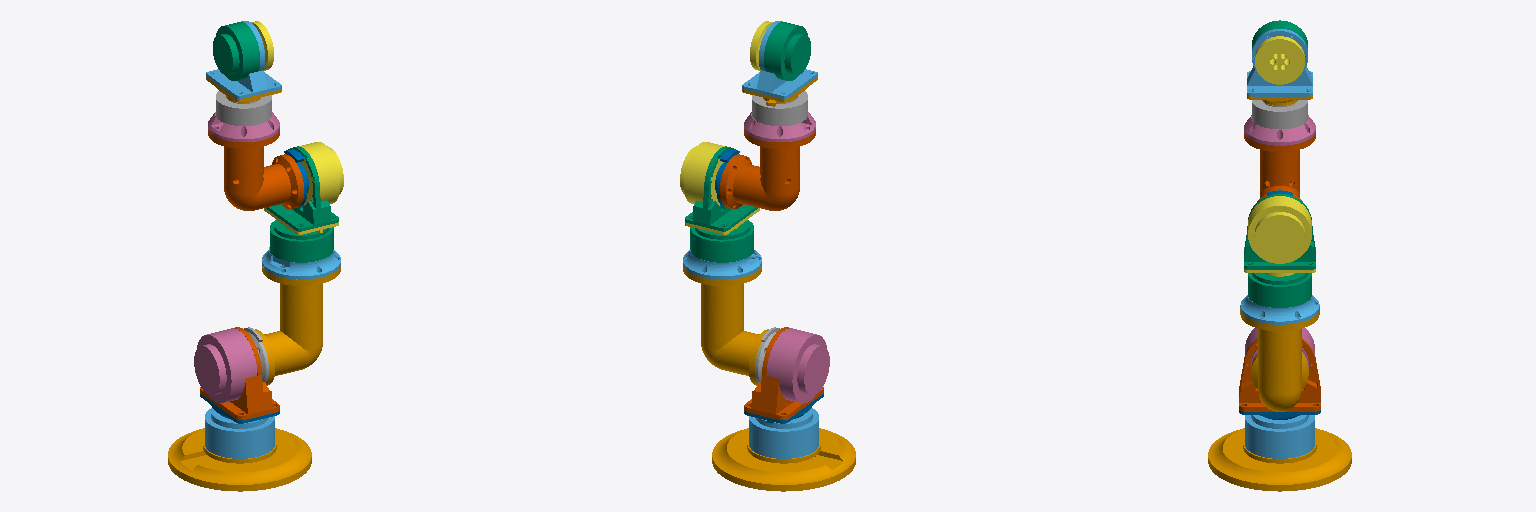
robot.urdf — my_robot:
<robot name="my_robot" version="1.0">
  <joint name="link1_motor_joint" type="fixed">
    <origin rpy="0.00000 0.00000 0.00000" xyz="0.00000 -0.00000 0.02630"/>
    <parent link="base_link"/>
    <child link="link1_motor"/>
    <axis xyz="0.00000 0.00000 1.00000"/>
  </joint>
  <joint name="link1_1_joint" type="revolute">
    <limit lower="-3.14000" upper="3.14000" effort="0.00000" velocity="0.00000"/>
    <origin rpy="0.00000 0.00000 0.00000" xyz="0.00000 0.00000 0.05070"/>
    <parent link="link1_motor"/>
    <child link="link1_1"/>
    <axis xyz="0.00000 0.00000 1.00000"/>
  </joint>
  <joint name="link4_motor_joint" type="fixed">
    <origin rpy="0.00000 0.00000 0.00000" xyz="0.00400 0.00000 0.05460"/>
    <parent link="link3_2"/>
    <child link="link4_motor"/>
  </joint>
  <joint name="link4_1_joint" type="revolute">
    <limit lower="-3.14000" upper="3.14000" effort="0.00000" velocity="0.00000"/>
    <origin rpy="0.00000 0.00000 0.00000" xyz="-0.00650 0.00000 0.00000"/>
    <parent link="link4_motor"/>
    <child link="link4_1"/>
    <axis xyz="-1.00000 0.00000 0.00000"/>
  </joint>
  <joint name="link4_1.000_joint" type="fixed">
    <origin rpy="0.00000 0.00000 0.00000" xyz="-0.01500 0.00000 0.00000"/>
    <parent link="link4_1"/>
    <child link="link4_2"/>
  </joint>
  <joint name="link4_3_joint" type="fixed">
    <origin rpy="0.00000 0.00000 0.00000" xyz="-0.07500 0.00000 0.10000"/>
    <parent link="link4_2"/>
    <child link="link4_3"/>
  </joint>
  <joint name="link5_motor_joint" type="fixed">
    <origin rpy="0.00000 0.00000 0.00000" xyz="0.00000 0.00000 0.02000"/>
    <parent link="link4_3"/>
    <child link="link5_motor"/>
  </joint>
  <joint name="link5_1_joint" type="revolute">
    <limit lower="-3.14000" upper="3.14000" effort="0.00000" velocity="0.00000"/>
    <origin rpy="0.00000 0.00000 0.00000" xyz="0.00000 0.00000 0.02900"/>
    <parent link="link5_motor"/>
    <child link="link5_1"/>
    <axis xyz="0.00000 0.00000 1.00000"/>
  </joint>
  <joint name="link5_2_joint" type="fixed">
    <origin rpy="0.00000 0.00000 0.00000" xyz="0.00000 0.00000 0.02000"/>
    <parent link="link5_1"/>
    <child link="link5_2"/>
  </joint>
  <joint name="link6_motor_joint" type="fixed">
    <origin rpy="0.00000 0.00000 0.00000" xyz="0.00350 0.00000 0.04950"/>
    <parent link="link5_2"/>
    <child link="link6_motor"/>
  </joint>
  <joint name="link6_1_joint" type="revolute">
    <limit lower="-3.14000" upper="3.14000" effort="0.00000" velocity="0.00000"/>
    <origin rpy="0.00000 0.00000 0.00000" xyz="0.00200 0.00000 0.00000"/>
    <parent link="link6_motor"/>
    <child link="link6_1"/>
    <axis xyz="1.00000 0.00000 0.00000"/>
  </joint>
  <joint name="link1_2_joint" type="fixed">
    <origin rpy="0.00000 0.00000 0.00000" xyz="0.00000 0.00000 0.01500"/>
    <parent link="link1_1"/>
    <child link="link1_2"/>
  </joint>
  <joint name="link2_motor_joint" type="fixed">
    <origin rpy="0.00000 0.00000 0.00000" xyz="0.00000 0.00000 0.05900"/>
    <parent link="link1_2"/>
    <child link="link2_motor"/>
  </joint>
  <joint name="link2_1_joint" type="revolute">
    <limit lower="-3.14000" upper="3.14000" effort="0.00000" velocity="0.00000"/>
    <origin rpy="0.00000 0.00000 0.00000" xyz="0.00900 0.00000 0.00000"/>
    <parent link="link2_motor"/>
    <child link="link2_1"/>
    <axis xyz="1.00000 0.00000 0.00000"/>
  </joint>
  <joint name="link2_2_joint" type="fixed">
    <origin rpy="0.00000 0.00000 0.00000" xyz="0.01500 0.00000 0.00000"/>
    <parent link="link2_1"/>
    <child link="link2_2"/>
  </joint>
  <joint name="link2_3_joint" type="fixed">
    <origin rpy="0.00000 0.00000 0.00000" xyz="0.07500 0.00000 0.13000"/>
    <parent link="link2_2"/>
    <child link="link2_3"/>
  </joint>
  <joint name="link3_motor_joint" type="fixed">
    <origin rpy="0.00000 0.00000 0.00000" xyz="0.00000 0.00000 0.02100"/>
    <parent link="link2_3"/>
    <child link="link3_motor"/>
  </joint>
  <joint name="link3_1_joint" type="revolute">
    <limit lower="-3.14000" upper="3.14000" effort="0.00000" velocity="0.00000"/>
    <origin rpy="0.00000 0.00000 0.00000" xyz="0.00000 0.00000 0.03905"/>
    <parent link="link3_motor"/>
    <child link="link3_1"/>
    <axis xyz="0.00000 0.00000 1.00000"/>
  </joint>
  <joint name="link3_2_joint" type="fixed">
    <origin rpy="0.00000 0.00000 0.00000" xyz="0.00000 0.00000 0.01500"/>
    <parent link="link3_1"/>
    <child link="link3_2"/>
  </joint>
  <link name="base_link">
    <collision name="mesh_base_link_collision">
      <origin rpy="0.00000 0.00000 0.00000" xyz="0.00000 0.00000 0.00000"/>
      <geometry>
        <mesh filename="../meshes/stl/1_my_robot v2_base_link_1_Body1.stl" scale="0.00100 0.00100 0.00100"/>
      </geometry>
    </collision>
    <visual name="mesh_base_link">
      <material name="None"/>
      <origin rpy="0.00000 0.00000 0.00000" xyz="0.00000 0.00000 0.00000"/>
      <geometry>
        <mesh filename="../meshes/stl/1_my_robot v2_base_link_1_Body1.stl" scale="0.00100 0.00100 0.00100"/>
      </geometry>
    </visual>
  </link>
  <link name="link1_motor">
    <collision name="mesh_link1_motor_collision">
      <origin rpy="0.00000 0.00000 0.00000" xyz="0.00000 0.00000 -0.02630"/>
      <geometry>
        <mesh filename="../meshes/stl/1_my_robot v2_link1_motor_1_Body1.stl" scale="0.00100 0.00100 0.00100"/>
      </geometry>
    </collision>
    <visual name="mesh_link1_motor">
      <material name="None"/>
      <origin rpy="0.00000 0.00000 0.00000" xyz="0.00000 0.00000 -0.02630"/>
      <geometry>
        <mesh filename="../meshes/stl/1_my_robot v2_link1_motor_1_Body1.stl" scale="0.00100 0.00100 0.00100"/>
      </geometry>
    </visual>
  </link>
  <link name="link3_2">
    <collision name="mesh_link3_2_collision">
      <origin rpy="0.00000 0.00000 0.00000" xyz="-0.09900 0.00000 -0.35605"/>
      <geometry>
        <mesh filename="../meshes/stl/1_my_robot v2_link3_2_1_Body1.stl" scale="0.00100 0.00100 0.00100"/>
      </geometry>
    </collision>
    <visual name="mesh_link3_2">
      <material name="None"/>
      <origin rpy="0.00000 0.00000 0.00000" xyz="-0.09900 0.00000 -0.35605"/>
      <geometry>
        <mesh filename="../meshes/stl/1_my_robot v2_link3_2_1_Body1.stl" scale="0.00100 0.00100 0.00100"/>
      </geometry>
    </visual>
  </link>
  <link name="link4_motor">
    <collision name="mesh_link4_motor_collision">
      <origin rpy="0.00000 0.00000 0.00000" xyz="-0.10300 0.00000 -0.41065"/>
      <geometry>
        <mesh filename="../meshes/stl/1_my_robot v2_link4_motor_1_Body1.stl" scale="0.00100 0.00100 0.00100"/>
      </geometry>
    </collision>
    <visual name="mesh_link4_motor">
      <material name="None"/>
      <origin rpy="0.00000 0.00000 0.00000" xyz="-0.10300 0.00000 -0.41065"/>
      <geometry>
        <mesh filename="../meshes/stl/1_my_robot v2_link4_motor_1_Body1.stl" scale="0.00100 0.00100 0.00100"/>
      </geometry>
    </visual>
  </link>
  <link name="link4_1">
    <collision name="mesh_link4_1_collision">
      <origin rpy="0.00000 0.00000 0.00000" xyz="-0.09650 0.00000 -0.41065"/>
      <geometry>
        <mesh filename="../meshes/stl/1_my_robot v2_link4_1_1_Body1.stl" scale="0.00100 0.00100 0.00100"/>
      </geometry>
    </collision>
    <visual name="mesh_link4_1">
      <material name="None"/>
      <origin rpy="0.00000 0.00000 0.00000" xyz="-0.09650 0.00000 -0.41065"/>
      <geometry>
        <mesh filename="../meshes/stl/1_my_robot v2_link4_1_1_Body1.stl" scale="0.00100 0.00100 0.00100"/>
      </geometry>
    </visual>
  </link>
  <link name="link4_2">
    <collision name="mesh_link4_2_collision">
      <origin rpy="0.00000 0.00000 0.00000" xyz="-0.08150 0.00000 -0.41065"/>
      <geometry>
        <mesh filename="../meshes/stl/1_my_robot v2_link4_PLA_1_Body1.stl" scale="0.00100 0.00100 0.00100"/>
      </geometry>
    </collision>
    <visual name="mesh_link4_2">
      <material name="None"/>
      <origin rpy="0.00000 0.00000 0.00000" xyz="-0.08150 0.00000 -0.41065"/>
      <geometry>
        <mesh filename="../meshes/stl/1_my_robot v2_link4_PLA_1_Body1.stl" scale="0.00100 0.00100 0.00100"/>
      </geometry>
    </visual>
  </link>
  <link name="link4_3">
    <collision name="mesh_link4_3_collision">
      <origin rpy="0.00000 0.00000 0.00000" xyz="-0.00650 0.00000 -0.51065"/>
      <geometry>
        <mesh filename="../meshes/stl/1_my_robot v2_link4_7_1_Body1.stl" scale="0.00100 0.00100 0.00100"/>
      </geometry>
    </collision>
    <visual name="mesh_link4_3">
      <material name="None"/>
      <origin rpy="0.00000 0.00000 0.00000" xyz="-0.00650 0.00000 -0.51065"/>
      <geometry>
        <mesh filename="../meshes/stl/1_my_robot v2_link4_7_1_Body1.stl" scale="0.00100 0.00100 0.00100"/>
      </geometry>
    </visual>
  </link>
  <link name="link5_motor">
    <collision name="mesh_link5_motor_collision">
      <origin rpy="0.00000 0.00000 0.00000" xyz="-0.00650 0.00000 -0.53065"/>
      <geometry>
        <mesh filename="../meshes/stl/1_my_robot v2_link5_motor_1_Body1.stl" scale="0.00100 0.00100 0.00100"/>
      </geometry>
    </collision>
    <visual name="mesh_link5_motor">
      <material name="None"/>
      <origin rpy="0.00000 0.00000 0.00000" xyz="-0.00650 0.00000 -0.53065"/>
      <geometry>
        <mesh filename="../meshes/stl/1_my_robot v2_link5_motor_1_Body1.stl" scale="0.00100 0.00100 0.00100"/>
      </geometry>
    </visual>
  </link>
  <link name="link5_1">
    <collision name="mesh_link5_1_collision">
      <origin rpy="0.00000 0.00000 0.00000" xyz="-0.00650 0.00000 -0.55965"/>
      <geometry>
        <mesh filename="../meshes/stl/1_my_robot v2_link5_1_1_Body1.stl" scale="0.00100 0.00100 0.00100"/>
      </geometry>
    </collision>
    <visual name="mesh_link5_1">
      <material name="None"/>
      <origin rpy="0.00000 0.00000 0.00000" xyz="-0.00650 0.00000 -0.55965"/>
      <geometry>
        <mesh filename="../meshes/stl/1_my_robot v2_link5_1_1_Body1.stl" scale="0.00100 0.00100 0.00100"/>
      </geometry>
    </visual>
  </link>
  <link name="link5_2">
    <collision name="mesh_link5_2_collision">
      <origin rpy="0.00000 0.00000 0.00000" xyz="-0.00650 0.00000 -0.57965"/>
      <geometry>
        <mesh filename="../meshes/stl/1_my_robot v2_link5_2_1_Body2.stl" scale="0.00100 0.00100 0.00100"/>
      </geometry>
    </collision>
    <visual name="mesh_link5_2">
      <material name="None"/>
      <origin rpy="0.00000 0.00000 0.00000" xyz="-0.00650 0.00000 -0.57965"/>
      <geometry>
        <mesh filename="../meshes/stl/1_my_robot v2_link5_2_1_Body2.stl" scale="0.00100 0.00100 0.00100"/>
      </geometry>
    </visual>
  </link>
  <link name="link6_motor">
    <collision name="mesh_link6_motor_collision">
      <origin rpy="0.00000 0.00000 0.00000" xyz="-0.01000 0.00000 -0.62915"/>
      <geometry>
        <mesh filename="../meshes/stl/1_my_robot v2_link6_motor_1_Body1.stl" scale="0.00100 0.00100 0.00100"/>
      </geometry>
    </collision>
    <visual name="mesh_link6_motor">
      <material name="None"/>
      <origin rpy="0.00000 0.00000 0.00000" xyz="-0.01000 0.00000 -0.62915"/>
      <geometry>
        <mesh filename="../meshes/stl/1_my_robot v2_link6_motor_1_Body1.stl" scale="0.00100 0.00100 0.00100"/>
      </geometry>
    </visual>
  </link>
  <link name="link6_1">
    <collision name="mesh_link6_1_collision">
      <origin rpy="0.00000 0.00000 0.00000" xyz="-0.01200 0.00000 -0.62915"/>
      <geometry>
        <mesh filename="../meshes/stl/1_my_robot v2_link6_1_1_Body1.stl" scale="0.00100 0.00100 0.00100"/>
      </geometry>
    </collision>
    <visual name="mesh_link6_1">
      <material name="None"/>
      <origin rpy="0.00000 0.00000 0.00000" xyz="-0.01200 0.00000 -0.62915"/>
      <geometry>
        <mesh filename="../meshes/stl/1_my_robot v2_link6_1_1_Body1.stl" scale="0.00100 0.00100 0.00100"/>
      </geometry>
    </visual>
  </link>
  <link name="link1_1">
    <collision name="mesh_link1_1_collision">
      <origin rpy="0.00000 0.00000 0.00000" xyz="0.00000 0.00000 0.00750"/>
      <geometry>
        <box size="0.07000 0.11500 0.01500"/>
      </geometry>
    </collision>
    <visual name="mesh_link1_1">
      <material name="None"/>
      <origin rpy="0.00000 0.00000 0.00000" xyz="0.00000 0.00000 -0.07700"/>
      <geometry>
        <mesh filename="../meshes/stl/1_my_robot v2_link1_1_1_Body1.stl" scale="0.00100 0.00100 0.00100"/>
      </geometry>
    </visual>
  </link>
  <link name="link1_2">
    <collision name="mesh_link1_2_collision">
      <origin rpy="0.00000 0.00000 0.00000" xyz="0.00000 0.00000 -0.09200"/>
      <geometry>
        <mesh filename="../meshes/stl/1_my_robot v2_link1_2_1_Body2.stl" scale="0.00100 0.00100 0.00100"/>
      </geometry>
    </collision>
    <visual name="mesh_link1_2">
      <material name="None"/>
      <origin rpy="0.00000 0.00000 0.00000" xyz="0.00000 0.00000 -0.09200"/>
      <geometry>
        <mesh filename="../meshes/stl/1_my_robot v2_link1_2_1_Body2.stl" scale="0.00100 0.00100 0.00100"/>
      </geometry>
    </visual>
  </link>
  <link name="link2_motor">
    <collision name="mesh_link2_motor_collision">
      <origin rpy="0.00000 0.00000 0.00000" xyz="0.00000 0.00000 -0.15100"/>
      <geometry>
        <mesh filename="../meshes/stl/1_my_robot v2_link2_motor_1_Body1.stl" scale="0.00100 0.00100 0.00100"/>
      </geometry>
    </collision>
    <visual name="mesh_link2_motor">
      <material name="None"/>
      <origin rpy="0.00000 0.00000 0.00000" xyz="0.00000 0.00000 -0.15100"/>
      <geometry>
        <mesh filename="../meshes/stl/1_my_robot v2_link2_motor_1_Body1.stl" scale="0.00100 0.00100 0.00100"/>
      </geometry>
    </visual>
  </link>
  <link name="link2_1">
    <collision name="mesh_link2_1_collision">
      <origin rpy="0.00000 0.00000 0.00000" xyz="-0.00900 0.00000 -0.15100"/>
      <geometry>
        <mesh filename="../meshes/stl/1_my_robot v2_link2_1_1_Body1.stl" scale="0.00100 0.00100 0.00100"/>
      </geometry>
    </collision>
    <visual name="mesh_link2_1">
      <material name="None"/>
      <origin rpy="0.00000 0.00000 0.00000" xyz="-0.00900 0.00000 -0.15100"/>
      <geometry>
        <mesh filename="../meshes/stl/1_my_robot v2_link2_1_1_Body1.stl" scale="0.00100 0.00100 0.00100"/>
      </geometry>
    </visual>
  </link>
  <link name="link2_2">
    <collision name="mesh_link2_2_collision">
      <origin rpy="0.00000 0.00000 0.00000" xyz="-0.02400 0.00000 -0.15100"/>
      <geometry>
        <mesh filename="../meshes/stl/1_my_robot v2_link2_PLA_1_Body1.stl" scale="0.00100 0.00100 0.00100"/>
      </geometry>
    </collision>
    <visual name="mesh_link2_2">
      <material name="None"/>
      <origin rpy="0.00000 0.00000 0.00000" xyz="-0.02400 0.00000 -0.15100"/>
      <geometry>
        <mesh filename="../meshes/stl/1_my_robot v2_link2_PLA_1_Body1.stl" scale="0.00100 0.00100 0.00100"/>
      </geometry>
    </visual>
  </link>
  <link name="link2_3">
    <collision name="mesh_link2_3_collision">
      <origin rpy="0.00000 0.00000 0.00000" xyz="-0.09900 0.00000 -0.28100"/>
      <geometry>
        <mesh filename="../meshes/stl/1_my_robot v2_link2_7_1_Body1.stl" scale="0.00100 0.00100 0.00100"/>
      </geometry>
    </collision>
    <visual name="mesh_link2_3">
      <material name="None"/>
      <origin rpy="0.00000 0.00000 0.00000" xyz="-0.09900 0.00000 -0.28100"/>
      <geometry>
        <mesh filename="../meshes/stl/1_my_robot v2_link2_7_1_Body1.stl" scale="0.00100 0.00100 0.00100"/>
      </geometry>
    </visual>
  </link>
  <link name="link3_motor">
    <collision name="mesh_link3_motor_collision">
      <origin rpy="0.00000 0.00000 0.00000" xyz="-0.09900 0.00000 -0.30200"/>
      <geometry>
        <mesh filename="../meshes/stl/1_my_robot v2_link3_motor_1_Body1.stl" scale="0.00100 0.00100 0.00100"/>
      </geometry>
    </collision>
    <visual name="mesh_link3_motor">
      <material name="None"/>
      <origin rpy="0.00000 0.00000 0.00000" xyz="-0.09900 0.00000 -0.30200"/>
      <geometry>
        <mesh filename="../meshes/stl/1_my_robot v2_link3_motor_1_Body1.stl" scale="0.00100 0.00100 0.00100"/>
      </geometry>
    </visual>
  </link>
  <link name="link3_1">
    <collision name="mesh_link3_1_collision">
      <origin rpy="0.00000 0.00000 0.00000" xyz="-0.09900 0.00000 -0.34105"/>
      <geometry>
        <mesh filename="../meshes/stl/1_my_robot v2_link3_1_1_Body1.stl" scale="0.00100 0.00100 0.00100"/>
      </geometry>
    </collision>
    <visual name="mesh_link3_1">
      <material name="None"/>
      <origin rpy="0.00000 0.00000 0.00000" xyz="-0.09900 0.00000 -0.34105"/>
      <geometry>
        <mesh filename="../meshes/stl/1_my_robot v2_link3_1_1_Body1.stl" scale="0.00100 0.00100 0.00100"/>
      </geometry>
    </visual>
  </link>
</robot>

--- What the picture shows (computed from the rendered views, not written in the file) ---
The picture shows the robot from 3 angles, left to right: view 1: azimuth 30°, elevation 25°; view 2: azimuth 150°, elevation 25°; view 3: azimuth 270°, elevation 25°; orthographic projection.
Model my_robot with 20 links and 19 joints (6 revolute, 13 fixed), rooted at base_link, posed all joints at 0.
Visible links, largest first — view 1: base_link, link2_2, link4_2, link2_motor, link1_motor, link6_motor, link3_motor, link1_2, link3_2, link4_motor, link5_2, link5_motor (+2 smaller); view 2: base_link, link2_2, link4_2, link2_motor, link1_motor, link6_motor, link3_motor, link1_2, link3_2, link4_motor, link5_2, link2_3 (+2 smaller); view 3: base_link, link2_2, link4_motor, link1_motor, link4_2, link1_2, link3_motor, link6_1, link5_2, link2_3, link5_motor, link4_3 (+1 smaller).
Link boxes in pixels (bbox=[...]): base_link: bbox=[168, 428, 311, 491]; link2_2: bbox=[255, 266, 340, 385]; link4_2: bbox=[208, 129, 303, 210]; link2_motor: bbox=[194, 328, 256, 402]; link1_motor: bbox=[205, 408, 274, 458]; link6_motor: bbox=[213, 22, 259, 80]; link3_motor: bbox=[270, 220, 333, 262]; link1_2: bbox=[200, 327, 279, 419]; link3_2: bbox=[266, 146, 338, 231]; link4_motor: bbox=[299, 142, 343, 205]; link5_2: bbox=[206, 21, 281, 98]; link5_motor: bbox=[216, 91, 271, 125]; base_link: bbox=[712, 428, 855, 491]; link2_2: bbox=[683, 266, 768, 385]; link4_2: bbox=[720, 129, 815, 210]; link2_motor: bbox=[767, 328, 829, 402]; link1_motor: bbox=[749, 408, 818, 458]; link6_motor: bbox=[764, 22, 810, 80]; link3_motor: bbox=[690, 220, 753, 262]; link1_2: bbox=[744, 327, 823, 419]; link3_2: bbox=[685, 146, 757, 231]; link4_motor: bbox=[680, 142, 724, 205]; link5_2: bbox=[742, 21, 817, 98]; link2_3: bbox=[683, 250, 761, 279]; base_link: bbox=[1208, 428, 1351, 491]; link2_2: bbox=[1240, 309, 1319, 411]; link4_motor: bbox=[1248, 196, 1311, 263]; link1_motor: bbox=[1245, 415, 1314, 458]; link4_2: bbox=[1244, 133, 1315, 201]; link1_2: bbox=[1239, 338, 1320, 411]; link3_motor: bbox=[1248, 273, 1311, 307]; link6_1: bbox=[1255, 36, 1304, 84]; link5_2: bbox=[1247, 29, 1312, 96]; link2_3: bbox=[1240, 295, 1319, 324]; link5_motor: bbox=[1252, 100, 1307, 128]; link4_3: bbox=[1244, 115, 1315, 145].
Size in the robot's own frame: 0.254 by 0.1999 by 0.6687 metres.
20 mesh visuals loaded from 20 distinct referenced files (20 binary STL).